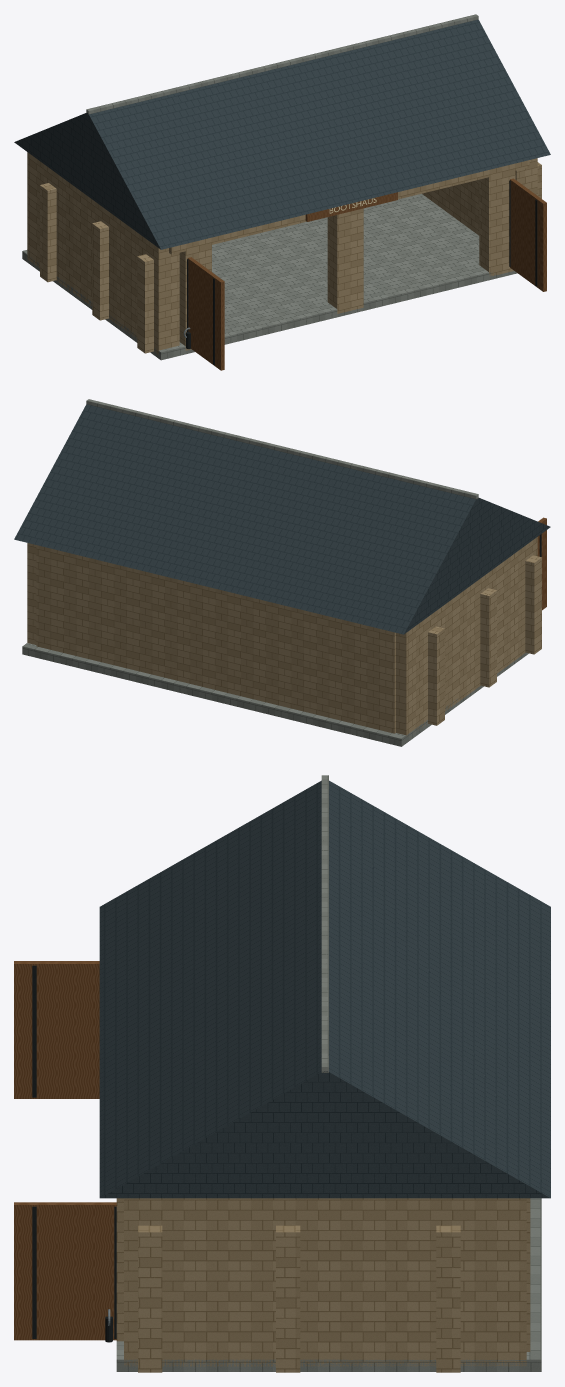
The model's file is building_1792077235.glb.
3 views of the same model, one above another, from view 1: azimuth 30°, elevation 25°; view 2: azimuth 150°, elevation 25°; view 3: azimuth 270°, elevation 25° (orthographic). The views are drawn at different scales.
Parts seen in each view (by area): view 1: boathouse; view 2: boathouse; view 3: boathouse.
Part boxes in pixels (bbox=[...]): boathouse: bbox=[14, 14, 550, 370]; boathouse: bbox=[14, 399, 550, 746]; boathouse: bbox=[14, 775, 550, 1372].
Bounding box in the file's own units: 18.84 × 9.14 × 14.4.
8 materials, 8 textured.
